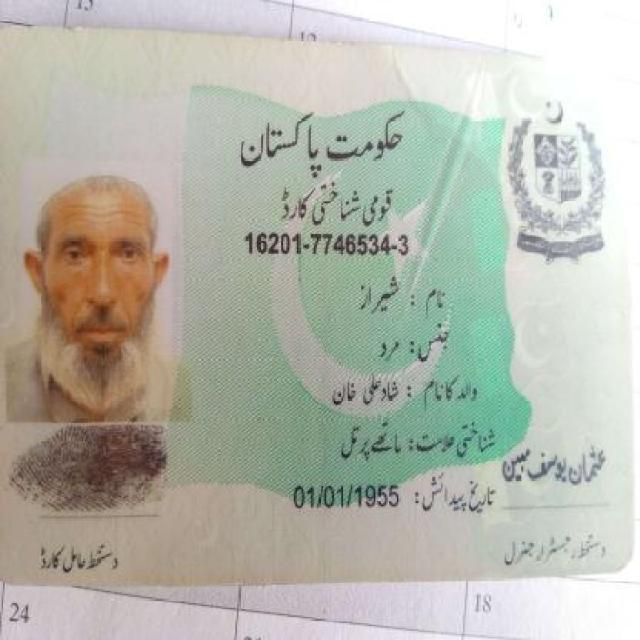Front: (8, 49, 629, 571)
